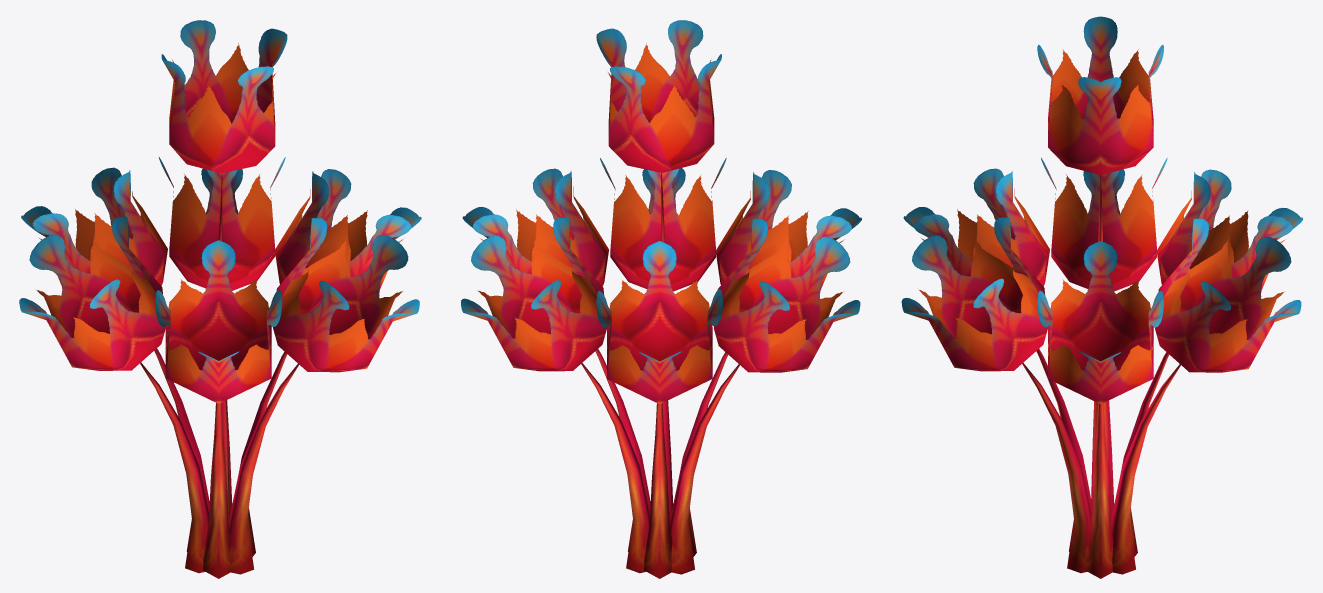
The model's file is RedFlower_03_Group2.FBX.
3 views of the same model, side by side, from view 1: azimuth 30°, elevation 25°; view 2: azimuth 150°, elevation 25°; view 3: azimuth 270°, elevation 25° (orthographic).
Visible parts, largest first — view 1: RedFlower_03_Group2; view 2: RedFlower_03_Group2; view 3: RedFlower_03_Group2.
Part boxes in pixels (x1,y1,x2,y2): RedFlower_03_Group2: (19, 20, 421, 578); RedFlower_03_Group2: (461, 20, 861, 578); RedFlower_03_Group2: (901, 16, 1302, 578).
Bounding box in the file's own units: 124 × 155 × 110.
